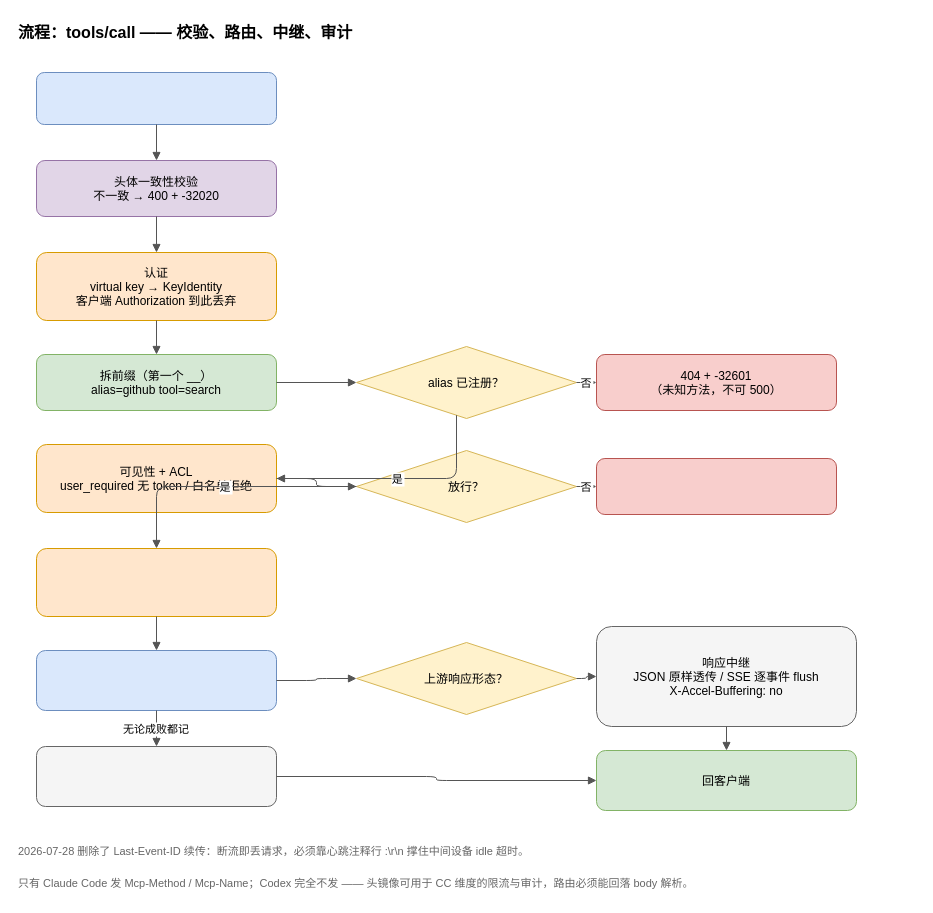
The diagram is 933 pixels wide and 913 high, and some of its shapes have lost their labels. The box of each missing label's shape, as (x1, y1, x2, y2) in pixels:
403 insufficient_scope: (596, 458, 836, 514)
POST /mcp Mcp-Name: github__search: (36, 72, 276, 124)
上游 tools/call 剥前缀 · 注入 Authorization: (36, 650, 276, 710)
写 mcp_call_log tool / 身份 / 状态 / 耗时: (36, 746, 276, 806)
解析出站凭据 credential_scope 三态 → 用户 / 共享 / 匿名: (36, 548, 276, 616)
